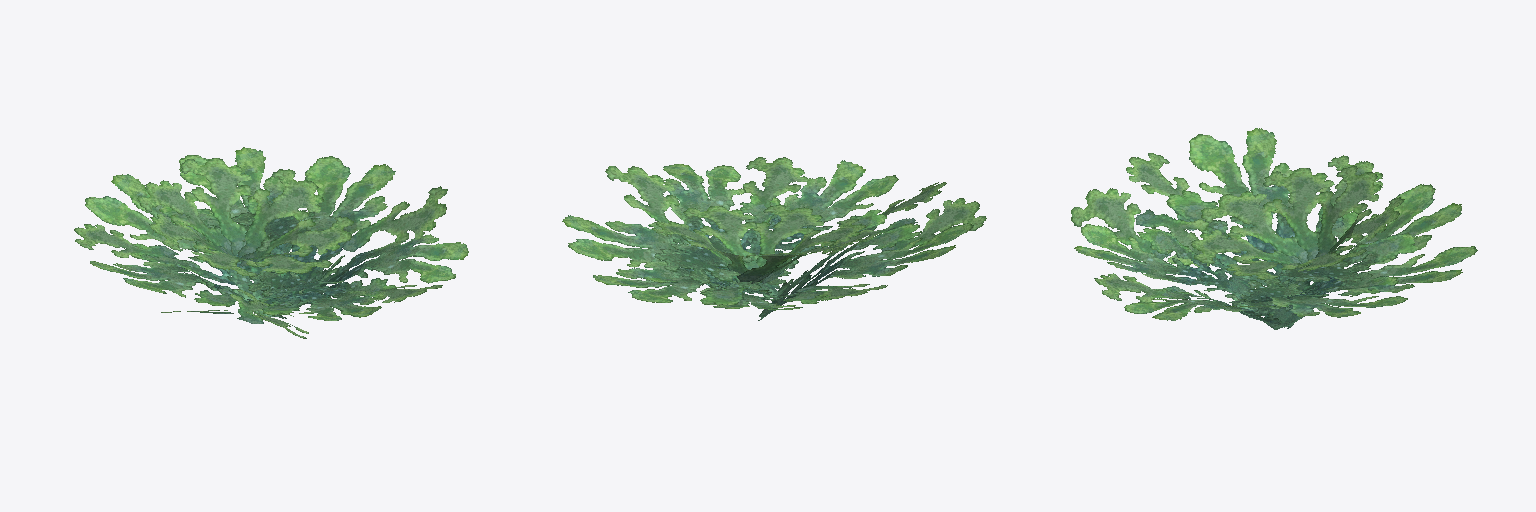
3 views of the same model, side by side, from view 1: azimuth 30°, elevation 25°; view 2: azimuth 150°, elevation 25°; view 3: azimuth 270°, elevation 25° (orthographic).
Visible parts, largest first — view 1: Mesh_1_Mesh_1_mesh0000.002; view 2: Mesh_1_Mesh_1_mesh0000.002; view 3: Mesh_1_Mesh_1_mesh0000.002.
Boxes of the visible parts, x1=… form: Mesh_1_Mesh_1_mesh0000.002: x1=74, y1=147, x2=468, y2=338; Mesh_1_Mesh_1_mesh0000.002: x1=562, y1=157, x2=986, y2=320; Mesh_1_Mesh_1_mesh0000.002: x1=1071, y1=128, x2=1477, y2=329.
Size of the model in its own units: 78.76 by 22.79 by 80.7.
1 materials, 1 textured.